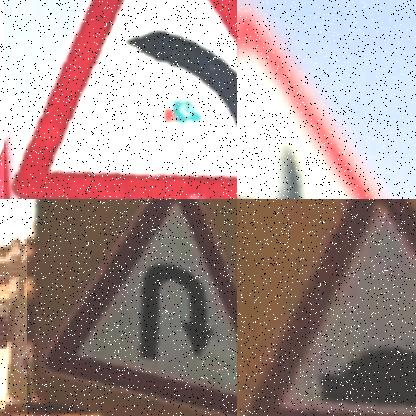Speed Breaker Ahead: (237, 199, 416, 416)
U-Turn: (27, 199, 237, 416), (27, 199, 237, 408)
Zigzag Road Ahead: (237, 0, 379, 199)
